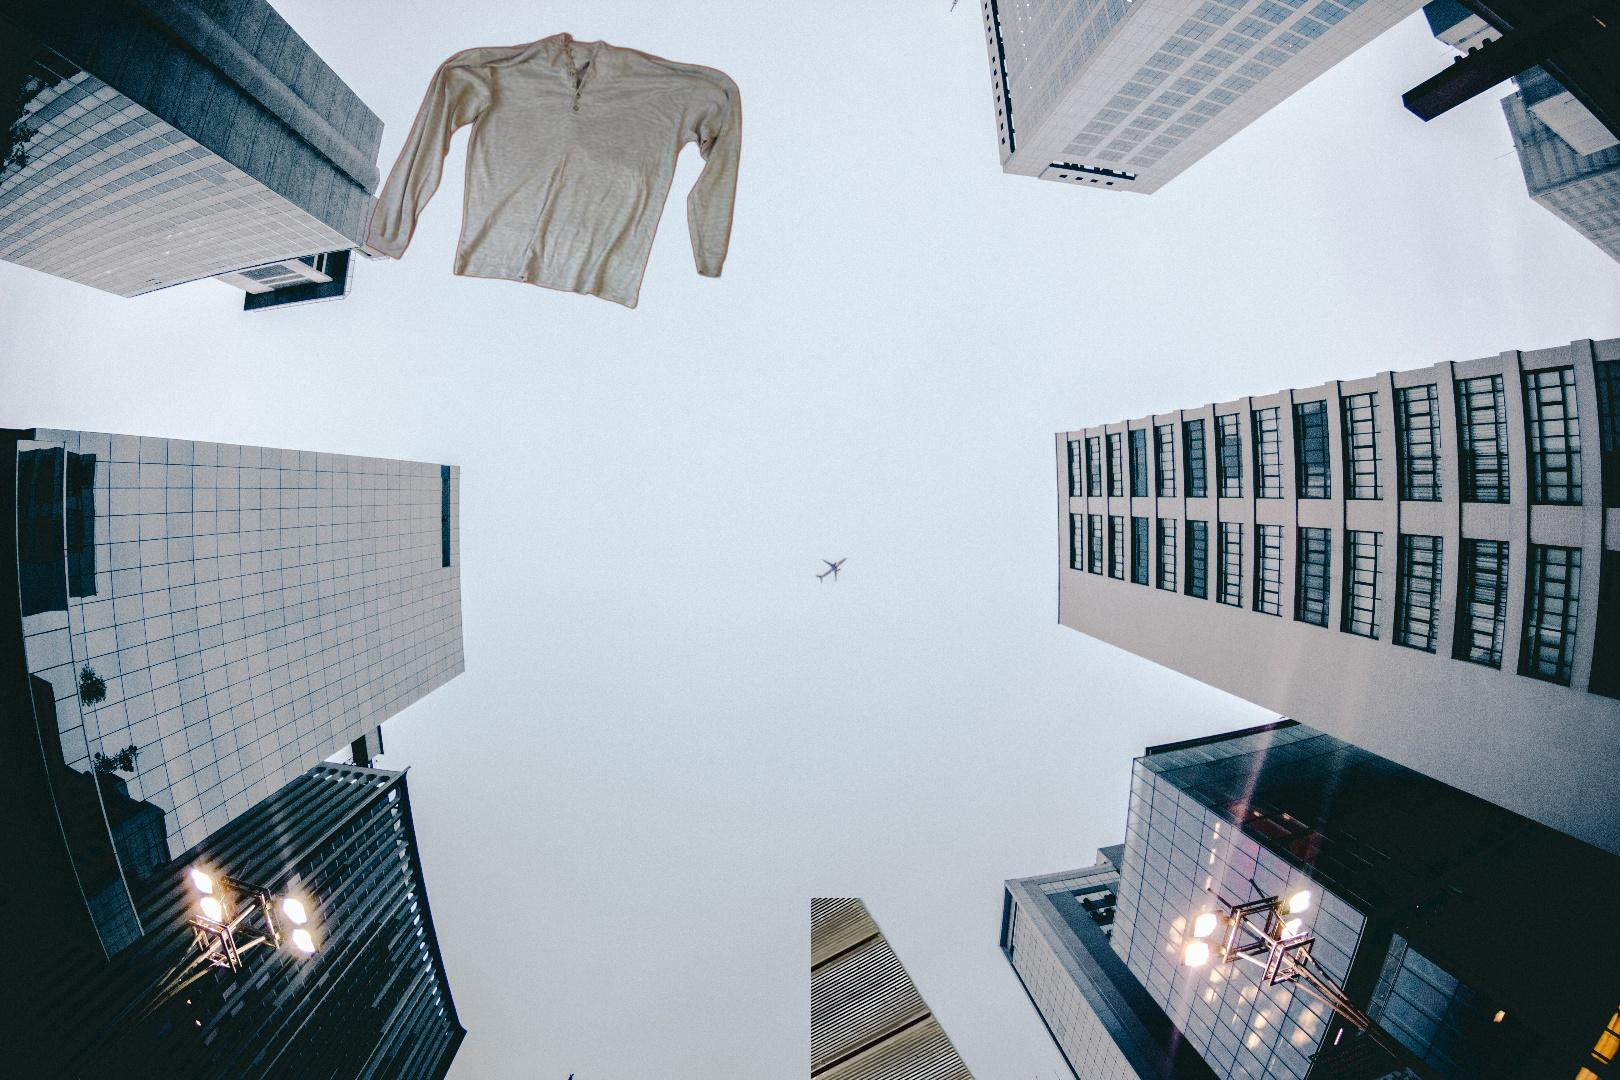clothes: (362, 31, 745, 313)
metal-cans: (811, 898, 1246, 1080)
